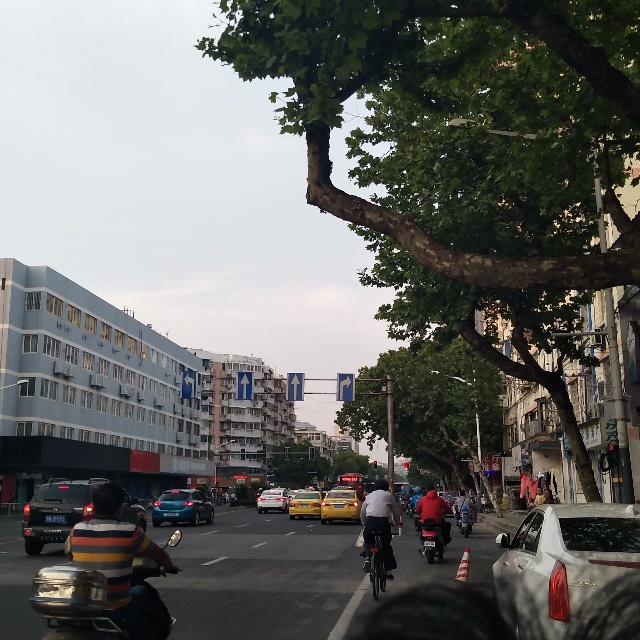left: (181, 371, 197, 398)
right: (338, 374, 353, 401)
straight: (289, 373, 303, 400), (238, 372, 251, 400)
